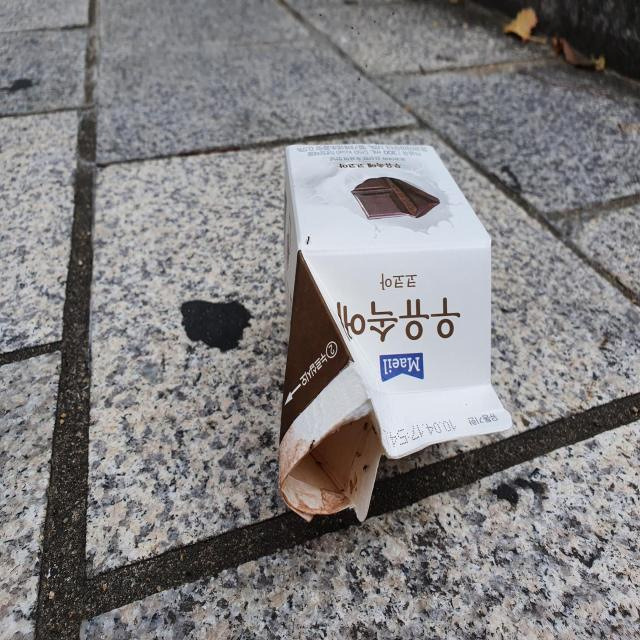paperpack: (279, 144, 512, 522)
